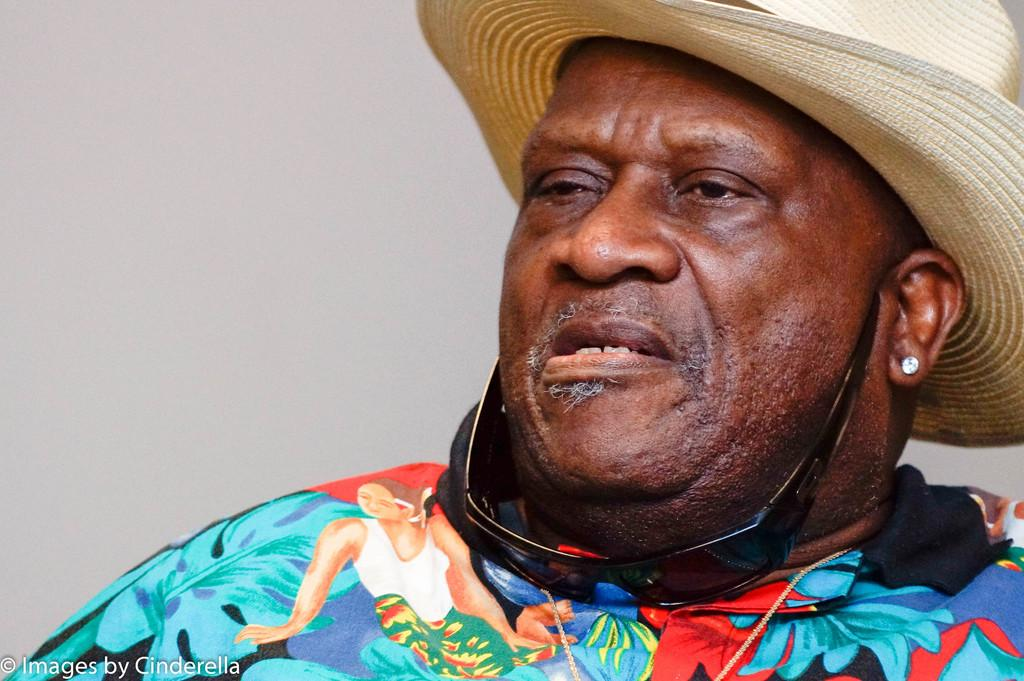Hat: (419, 0, 1023, 444)
